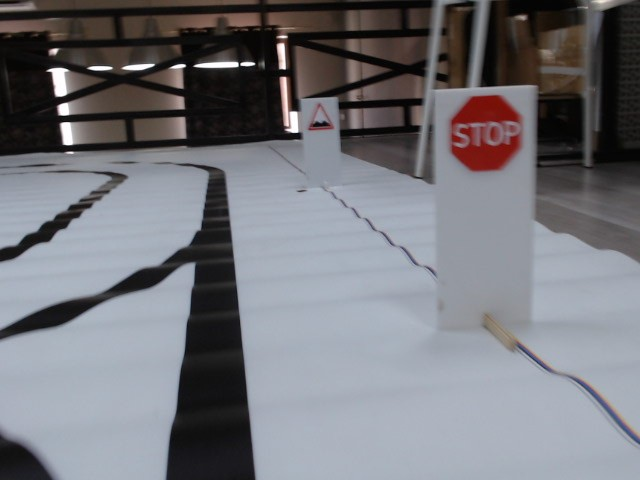Nerov: (305, 102, 336, 133)
Stop: (448, 97, 525, 174)
